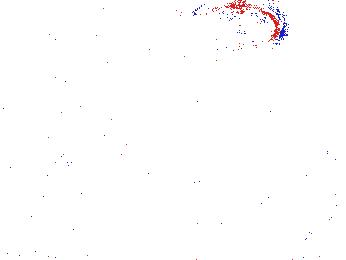moon jellyfish: (142, 21, 228, 108), (10, 74, 78, 153), (101, 1, 194, 57), (189, 1, 285, 52), (56, 13, 114, 83)
